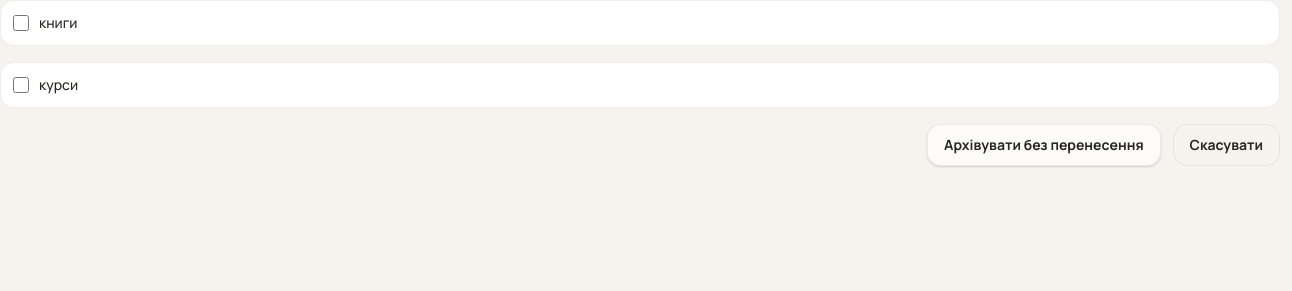
Scenario: CH-06 п.4: зняв чекбокс -- форма скидається до вибору картки (select/кнопка зникають, обраний target очищається)
Click the checkbox named "Перенести" next to "книги". click: (21, 23)
box: x1=13 y1=15 x2=29 y2=31
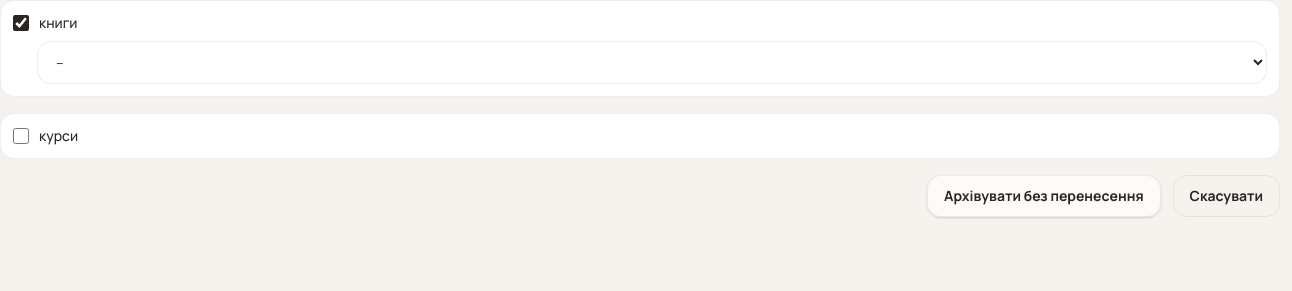
Select "Спорт" in the dropdown. click: (652, 62)
box: x1=37 y1=41 x2=1267 y2=84
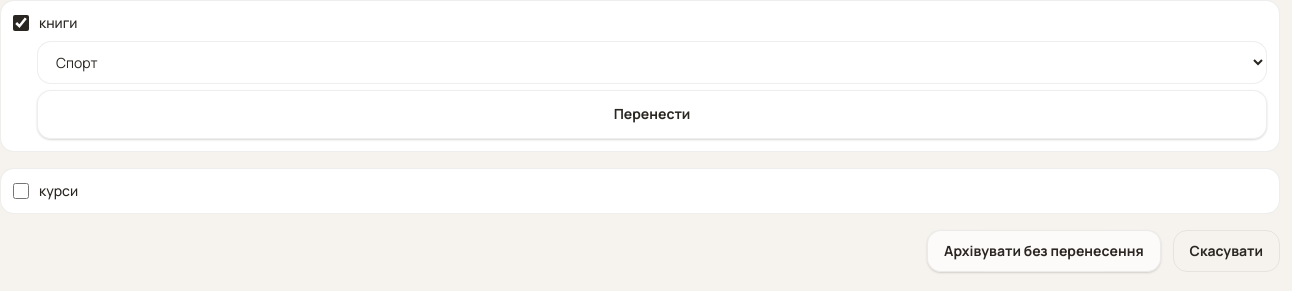
Check: the button "Перенести" is shown, box x1=37 y1=90 x2=1267 y2=139
Click the checkbox named "Перенести" next to "книги". click: (21, 23)
box: x1=13 y1=15 x2=29 y2=31
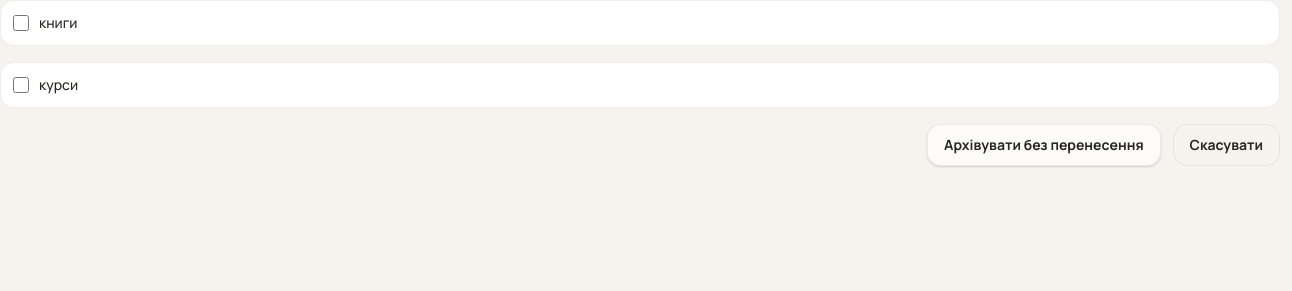
Check: the dropdown is gone
Check: the button "Перенести" is gone
Позначив знову -- select порожній ("--"), не пам'ятає стару картку.
Click the checkbox named "Перенести" next to "книги". click: (21, 23)
box: x1=13 y1=15 x2=29 y2=31
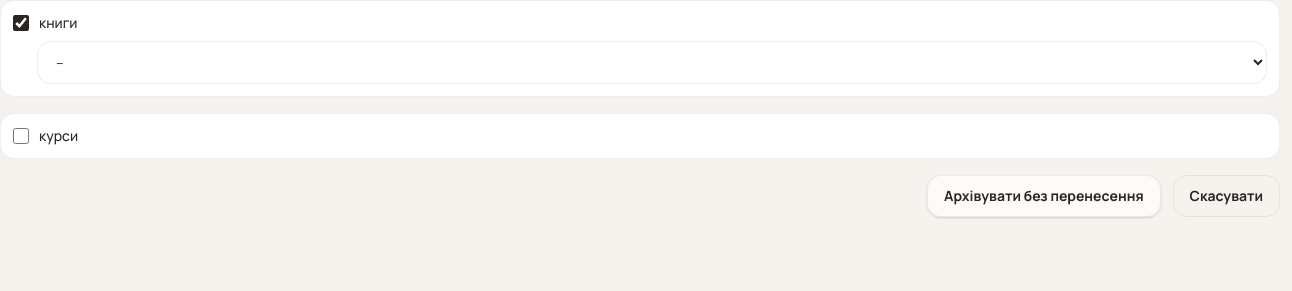
Check: the dropdown shows "--", box x1=37 y1=41 x2=1267 y2=84
